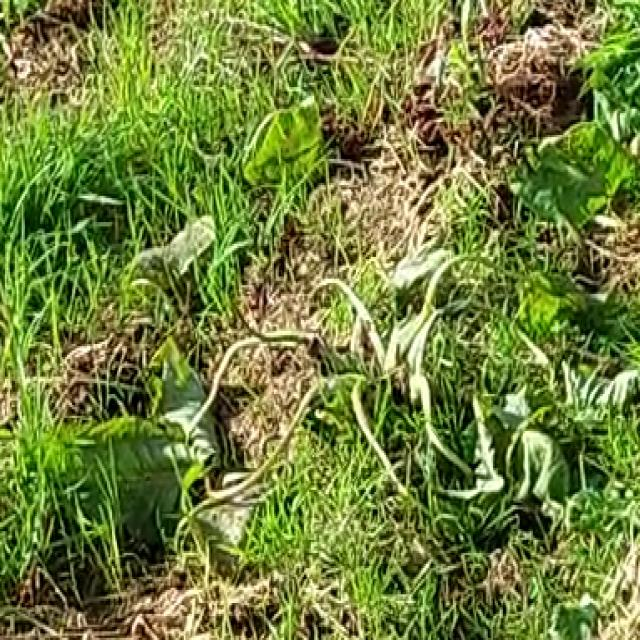organic waste: (25, 85, 628, 583)
